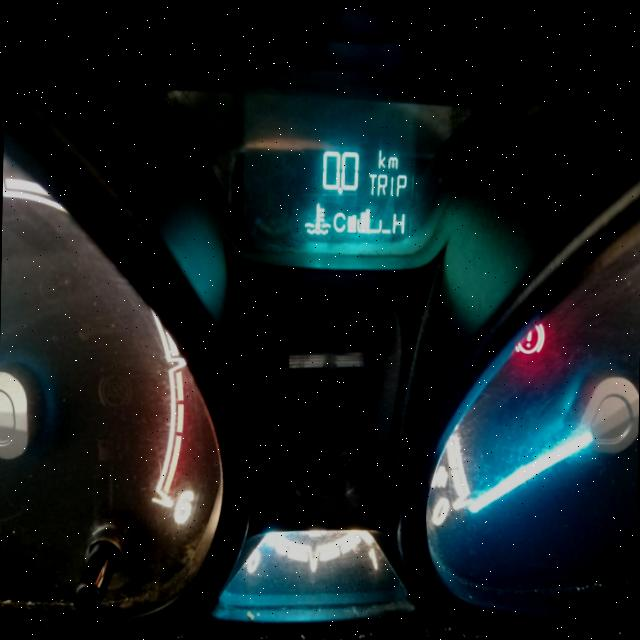odometer: (222, 138, 440, 250)
